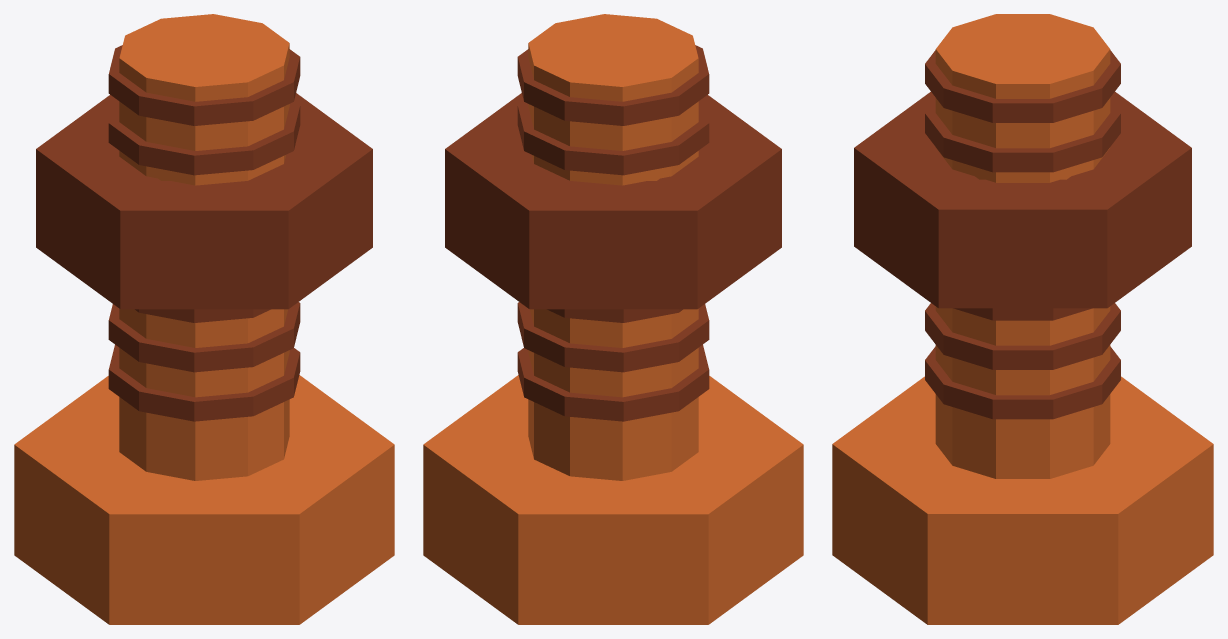
File: item_bolt_rusty.fbx
3 renders of one model, left to right at view 1: azimuth 30°, elevation 25°; view 2: azimuth 150°, elevation 25°; view 3: azimuth 270°, elevation 25°, orthographic.
Parts seen in each view (by area): view 1: item_bolt_rusty; view 2: item_bolt_rusty; view 3: item_bolt_rusty.
Boxes of the visible parts, x1,y1,x2,y2 form: item_bolt_rusty: (14,14,394,624); item_bolt_rusty: (423,14,803,624); item_bolt_rusty: (832,14,1213,624).
Size of the model in its own units: 1.21 by 2.05 by 1.4.
